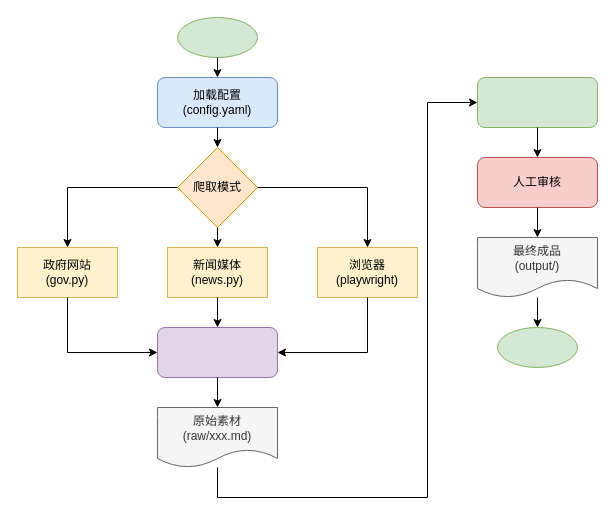
The diagram is 615 pixels wide and 523 high, and some of its shapes have lost their labels. The centre of each missing label's shape, as x and y in pixels:
"AI 辅助分析 (Cursor + Prompts)" goes at (x=537, y=102).
"关键词过滤 (水利/能源/工程)" goes at (x=217, y=352).
"发布" goes at (x=537, y=347).
"开始" goes at (x=217, y=37).
